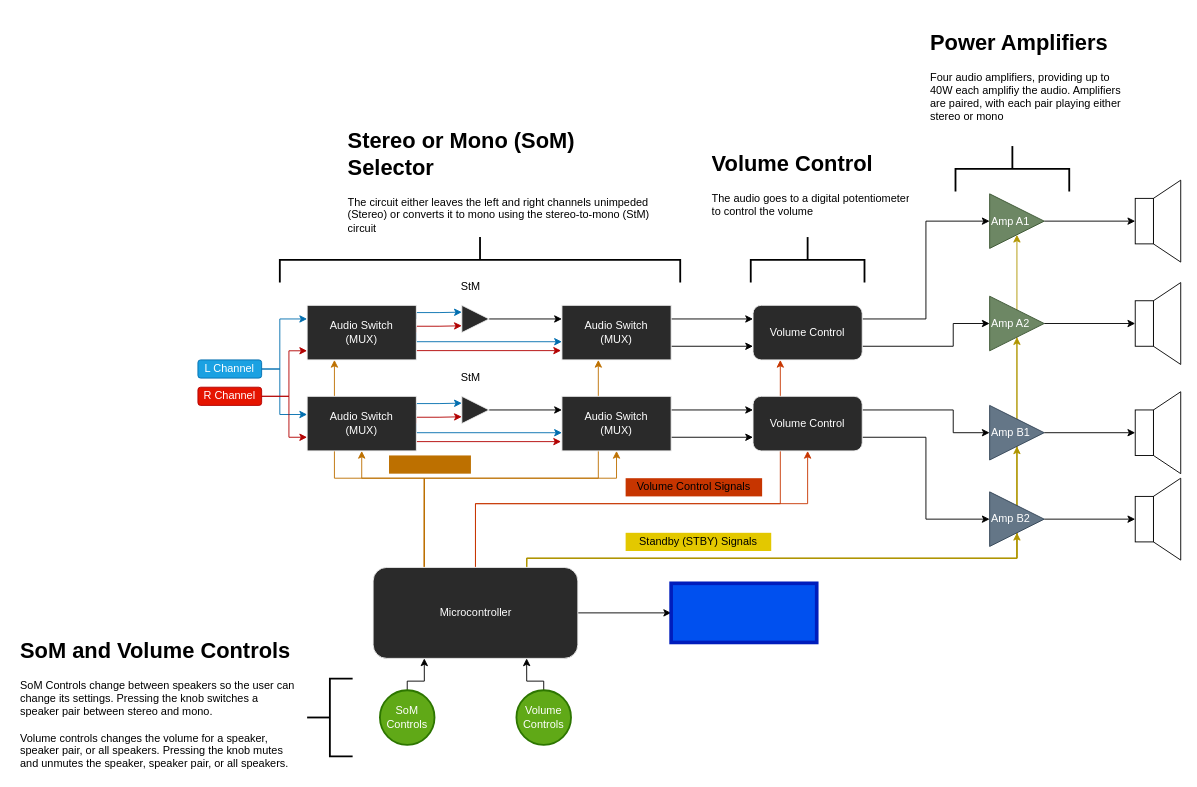
Some shapes in this 1197 by 787 pixel diagram are drawn without their labels. Here are the shapes that lost their labels. From the top down, the centre of each, then its label:
the point at 429,464: SoM Signals
the point at 743,612: LCD Screen
